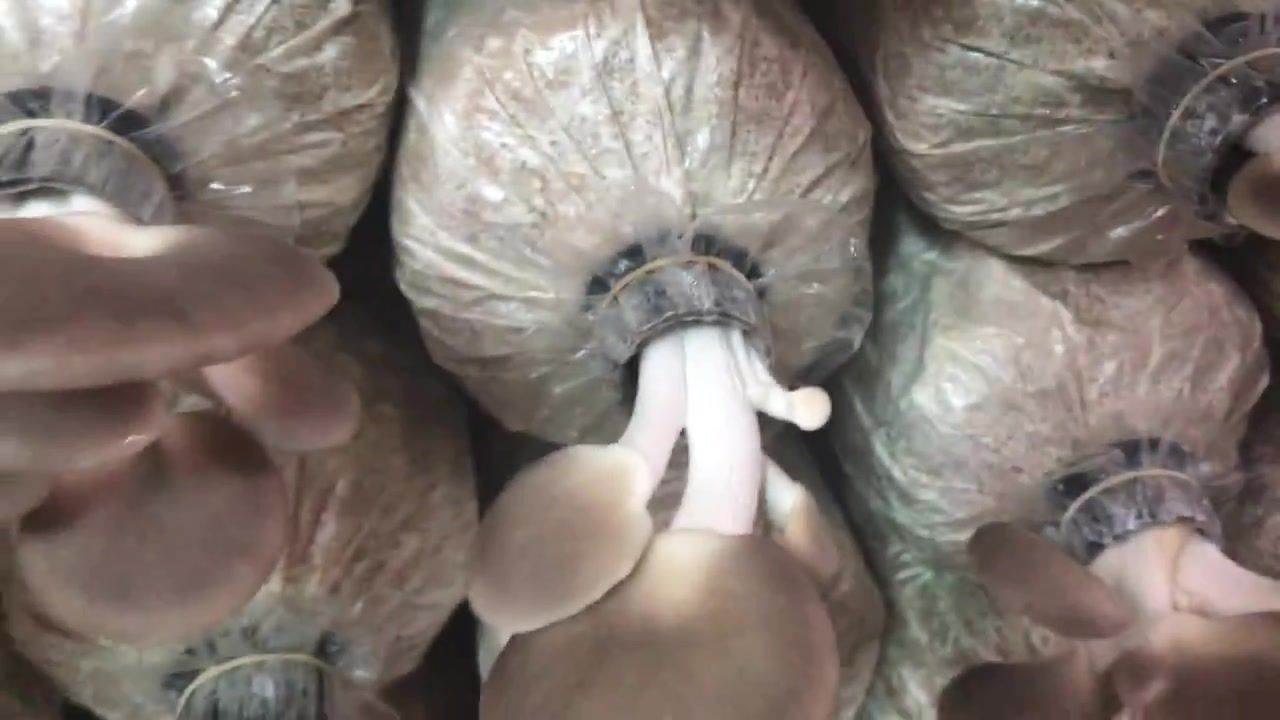nam: (1, 116, 371, 645), (471, 253, 850, 720), (935, 467, 1280, 719)
